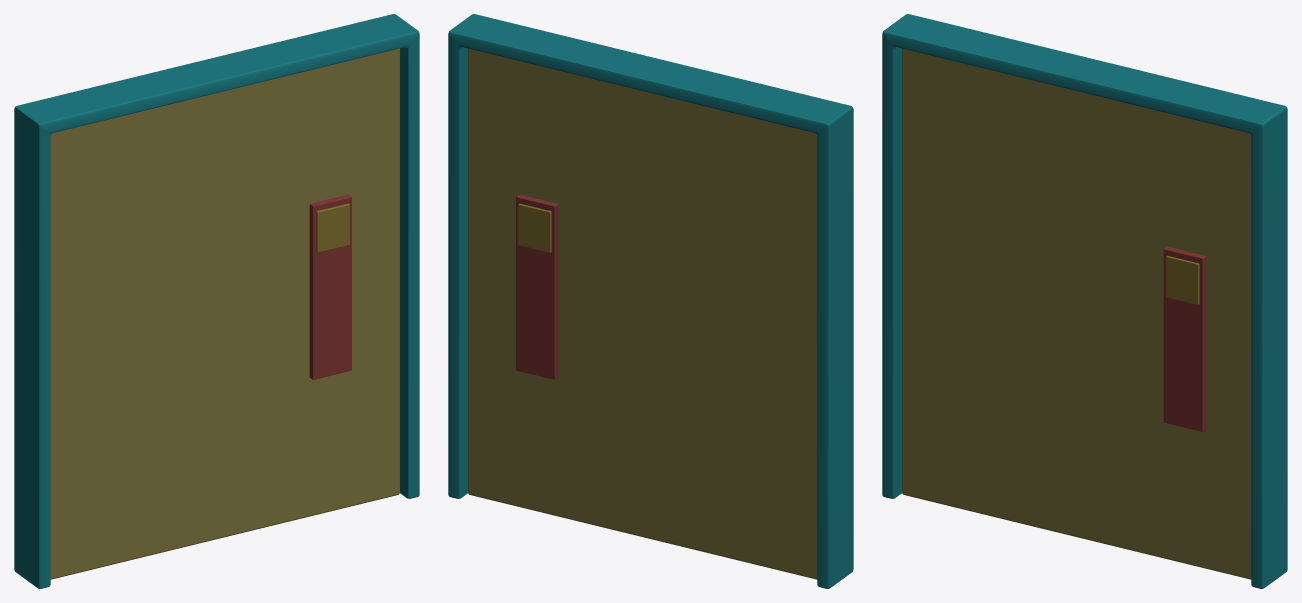
File: Door_Wide_Locked.fbx
3 renders of one model, left to right at view 1: azimuth 30°, elevation 25°; view 2: azimuth 150°, elevation 25°; view 3: azimuth 330°, elevation 25°, orthographic.
Parts seen in each view (by area): view 1: Door_Wide_Locked (×4); view 2: Door_Wide_Locked (×4); view 3: Door_Wide_Locked (×4).
Part boxes in pixels (bbox=[...]): Door_Wide_Locked (×4): bbox=[14, 14, 419, 588]; Door_Wide_Locked (×4): bbox=[448, 14, 853, 588]; Door_Wide_Locked (×4): bbox=[882, 14, 1287, 588].
Size of the model in its own units: 6 by 7 by 0.7.
